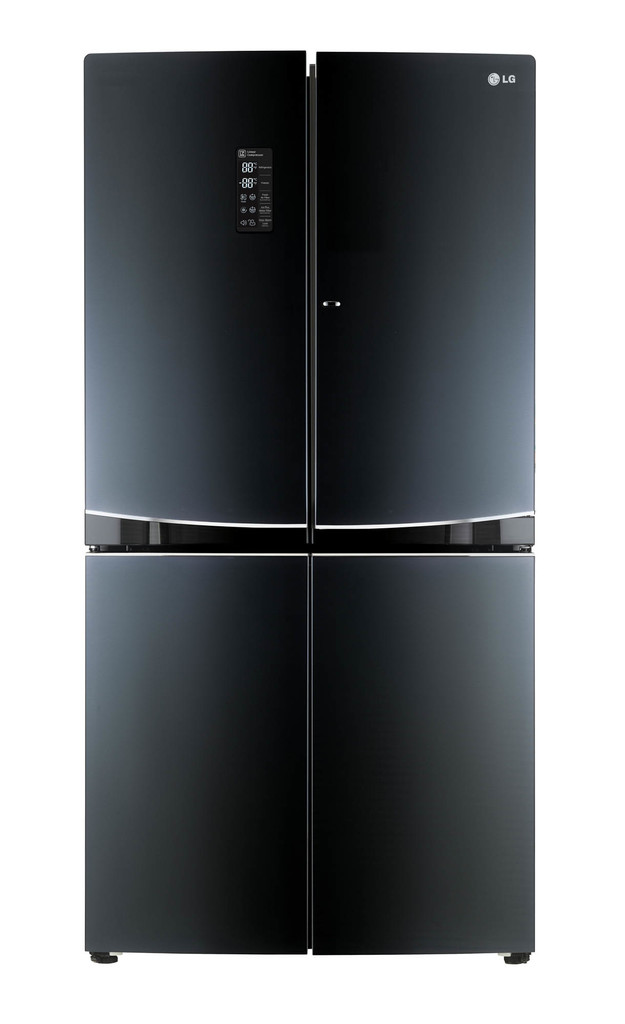handle: (79, 498, 307, 589), (316, 499, 532, 589)
refrigerator door: (85, 53, 305, 533), (314, 51, 536, 518), (314, 558, 535, 950), (86, 552, 307, 943)
